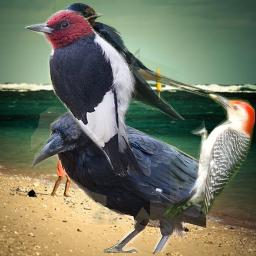Crow: (31, 107, 206, 253)
Swallow: (56, 0, 215, 120)
Woodpecker: (25, 10, 140, 177), (160, 88, 255, 226)
